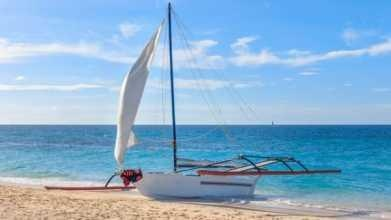fanchuan: (116, 1, 336, 200)
